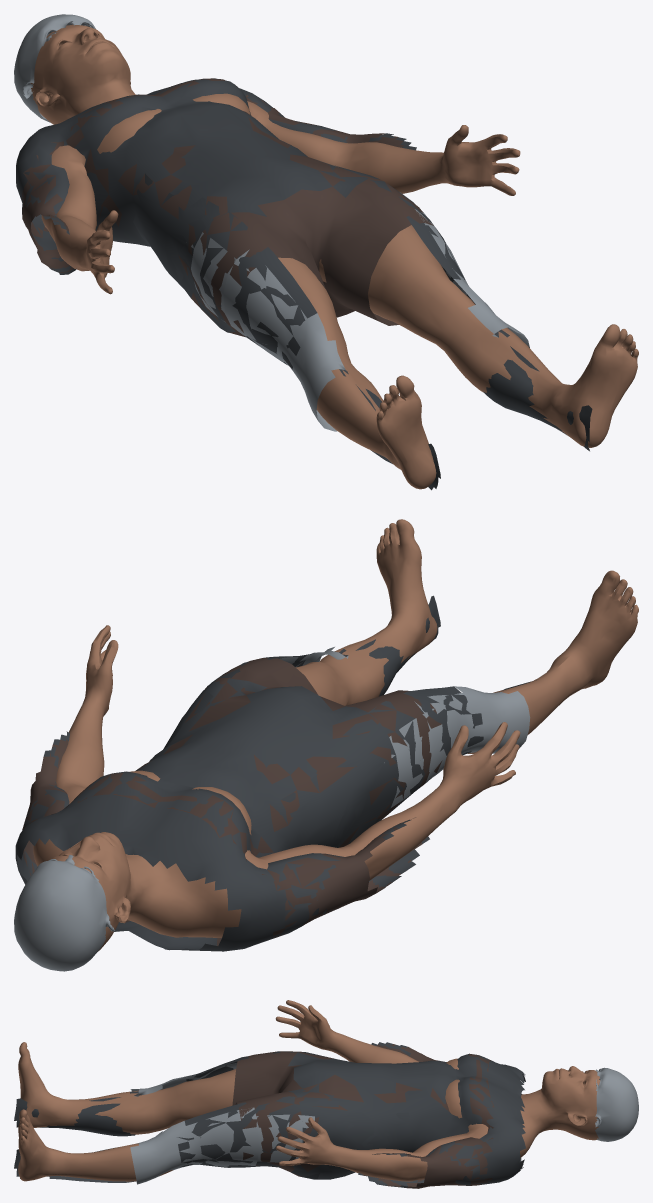
Rendered from gravewarden.glb.
3 views of the same model, one above another, from view 1: azimuth 30°, elevation 25°; view 2: azimuth 150°, elevation 25°; view 3: azimuth 270°, elevation 25° (orthographic). The views are drawn at different scales.
Parts seen in each view (by area): view 1: V36_RealisticAnatomicalBody, V36_Gravewarden_Cuirass, V36_Gravewarden_Gambeson, V36_Gravewarden_ArmoredSleeves, V36_Gravewarden_Gauntlets, V36_Gravewarden_Greaves, V36_Gravewarden_Helmet, V36_Gravewarden_PauldronSurface; view 2: V36_Gravewarden_Cuirass, V36_RealisticAnatomicalBody, V36_Gravewarden_Gambeson, V36_Gravewarden_Helmet, V36_Gravewarden_ArmoredSleeves, V36_Gravewarden_Gauntlets, V36_Gravewarden_PauldronSurface, V36_Gravewarden_Greaves; view 3: V36_RealisticAnatomicalBody, V36_Gravewarden_Cuirass, V36_Gravewarden_Gambeson, V36_Gravewarden_ArmoredSleeves, V36_Gravewarden_Gauntlets, V36_Gravewarden_Helmet, V36_Gravewarden_Greaves, V36_Gravewarden_PauldronSurface.
Boxes of the visible parts, <box> form: V36_RealisticAnatomicalBody: <box>30,24,638,489</box>; V36_Gravewarden_Cuirass: <box>16,78,378,331</box>; V36_Gravewarden_Gambeson: <box>22,78,433,337</box>; V36_Gravewarden_ArmoredSleeves: <box>43,133,475,369</box>; V36_Gravewarden_Gauntlets: <box>223,209,529,431</box>; V36_Gravewarden_Greaves: <box>339,329,592,490</box>; V36_Gravewarden_Helmet: <box>14,14,95,122</box>; V36_Gravewarden_PauldronSurface: <box>186,192,423,326</box>; V36_Gravewarden_Cuirass: <box>15,678,398,951</box>; V36_RealisticAnatomicalBody: <box>33,519,638,951</box>; V36_Gravewarden_Gambeson: <box>22,658,442,945</box>; V36_Gravewarden_Helmet: <box>14,855,115,971</box>; V36_Gravewarden_ArmoredSleeves: <box>43,653,483,887</box>; V36_Gravewarden_Gauntlets: <box>263,647,530,781</box>; V36_Gravewarden_PauldronSurface: <box>203,678,433,807</box>; V36_Gravewarden_Greaves: <box>339,595,536,696</box>; V36_RealisticAnatomicalBody: <box>18,1000,600,1181</box>; V36_Gravewarden_Cuirass: <box>288,1052,525,1185</box>; V36_Gravewarden_Gambeson: <box>232,1044,494,1188</box>; V36_Gravewarden_ArmoredSleeves: <box>177,1042,411,1187</box>; V36_Gravewarden_Gauntlets: <box>130,1061,258,1184</box>; V36_Gravewarden_Helmet: <box>595,1067,638,1141</box>; V36_Gravewarden_Greaves: <box>14,1091,138,1182</box>; V36_Gravewarden_PauldronSurface: <box>256,1114,314,1162</box>.
Size of the model in its own units: 2.24 by 0.8271 by 4.43.
